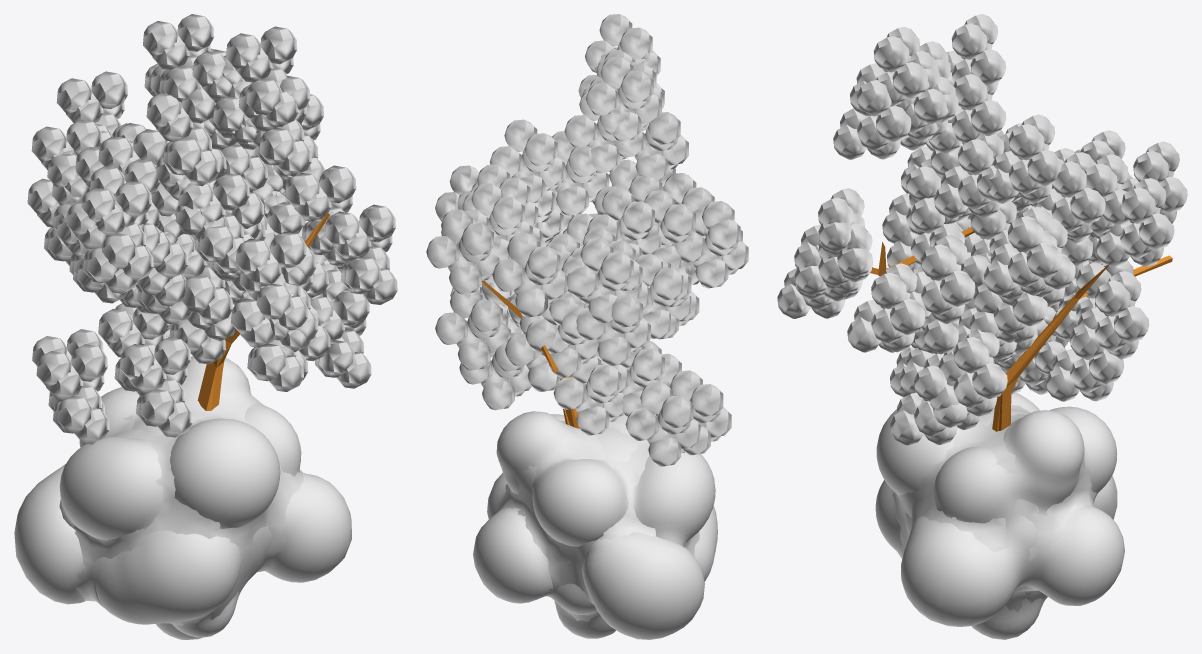
The model's file is tree5.fbx.
3 views of the same model, side by side, from view 1: azimuth 30°, elevation 25°; view 2: azimuth 150°, elevation 25°; view 3: azimuth 270°, elevation 25° (orthographic). The views are drawn at different scales.
Parts seen in each view (by area): view 1: feuillage.001, particule, custom normals, Vert; view 2: feuillage.001, particule, custom normals, Vert; view 3: feuillage.001, particule, custom normals, Vert.
Part boxes in pixels (box(x1,y1,x2,y2)): feuillage.001: box(27, 14, 397, 444); particule: box(14, 356, 351, 639); custom normals: box(73, 393, 303, 625); Vert: box(197, 213, 329, 410); feuillage.001: box(426, 14, 748, 466); particule: box(473, 411, 717, 639); custom normals: box(497, 421, 699, 621); Vert: box(481, 201, 594, 428); feuillage.001: box(777, 14, 1187, 445); particule: box(875, 393, 1124, 639); custom normals: box(892, 405, 1097, 611); Vert: box(870, 227, 1172, 431).
Bounding box in the file's own units: 620 × 1232 × 748.
